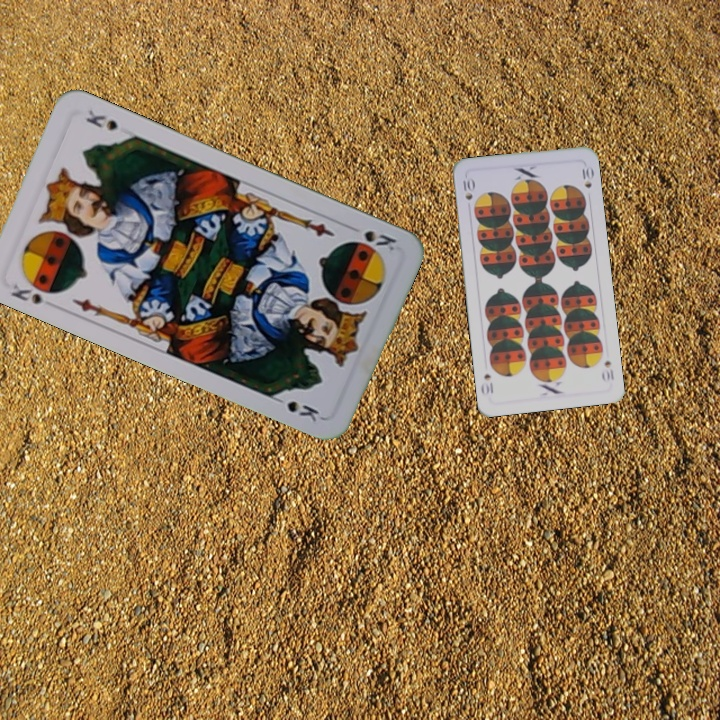S10: (598, 356, 617, 384), (459, 175, 476, 202)
SK: (344, 221, 399, 258), (6, 279, 45, 307)
